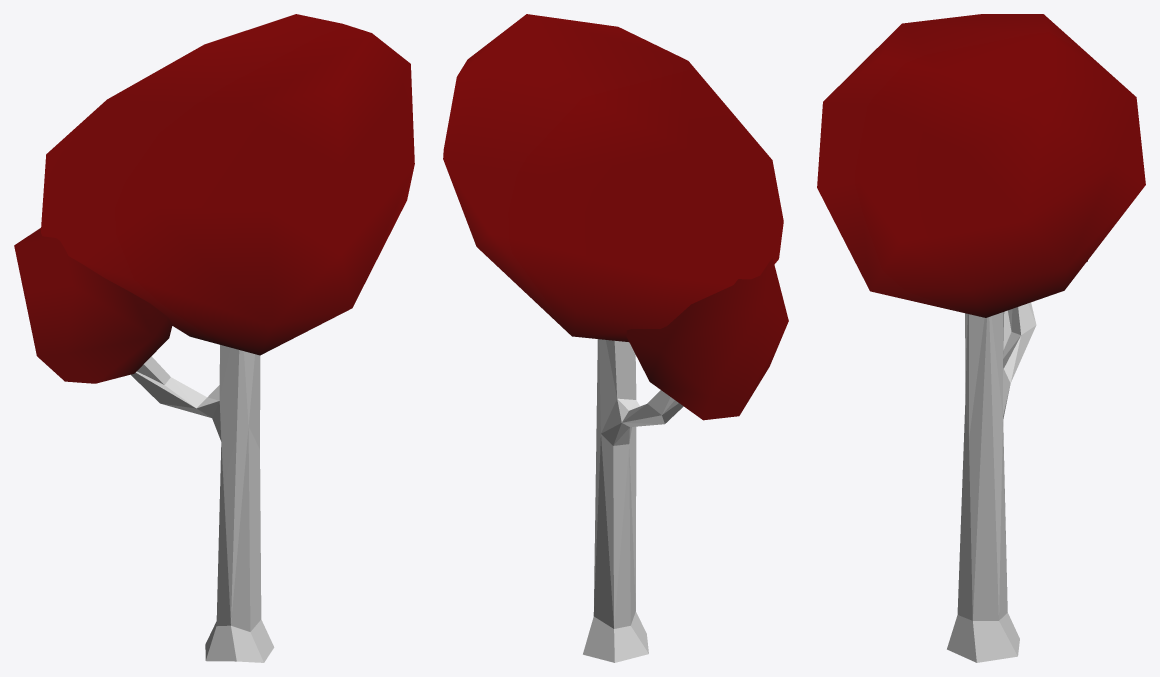
Rendered from BallTree01.fbx.
3 views of the same model, side by side, from view 1: azimuth 30°, elevation 25°; view 2: azimuth 150°, elevation 25°; view 3: azimuth 270°, elevation 25° (orthographic). The views are drawn at different scales.
Visible parts, largest first — view 1: BallTree01_Leafs01, BallTree01_Trunk, BallTree01_Leafs02; view 2: BallTree01_Leafs01, BallTree01_Trunk, BallTree01_Leafs02; view 3: BallTree01_Leafs01, BallTree01_Trunk.
Boxes of the visible parts, x1,y1,x2,y2 form: BallTree01_Leafs01: (41, 14, 414, 355); BallTree01_Trunk: (131, 345, 274, 662); BallTree01_Leafs02: (14, 228, 172, 383); BallTree01_Leafs01: (443, 14, 783, 341); BallTree01_Trunk: (583, 339, 683, 662); BallTree01_Leafs02: (626, 258, 788, 420); BallTree01_Leafs01: (817, 14, 1145, 317); BallTree01_Trunk: (947, 302, 1036, 662).
Bounding box in the file's own units: 1.38 × 2.25 × 1.06.
